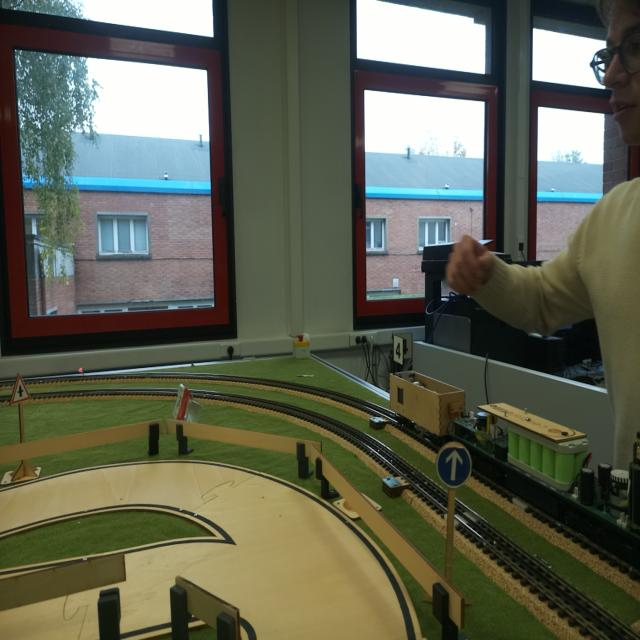panneau_sens_unique: (441, 441, 468, 488)
